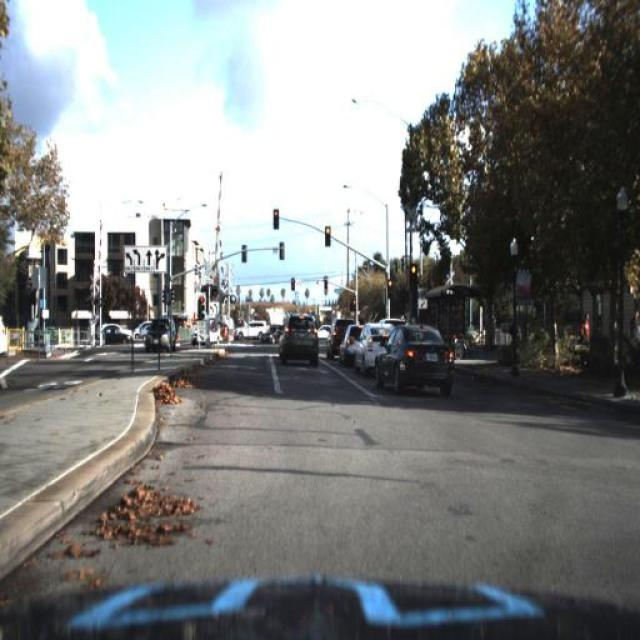car: (375, 322, 455, 398), (278, 311, 320, 370), (354, 324, 391, 380), (326, 307, 356, 368), (142, 314, 178, 354), (340, 321, 369, 367), (230, 312, 266, 339), (189, 316, 220, 346), (359, 324, 376, 378), (188, 321, 218, 349), (102, 324, 128, 348), (342, 325, 357, 365), (328, 319, 340, 360), (267, 318, 281, 346)
trafficLight: (630, 302, 640, 352), (580, 313, 591, 355)
trafficLight-Green: (196, 290, 208, 324)
trafficLight-RedLeft: (196, 287, 212, 319), (322, 216, 333, 244), (388, 268, 398, 296), (320, 266, 330, 292), (409, 258, 420, 281), (272, 205, 283, 227), (349, 295, 357, 314)
